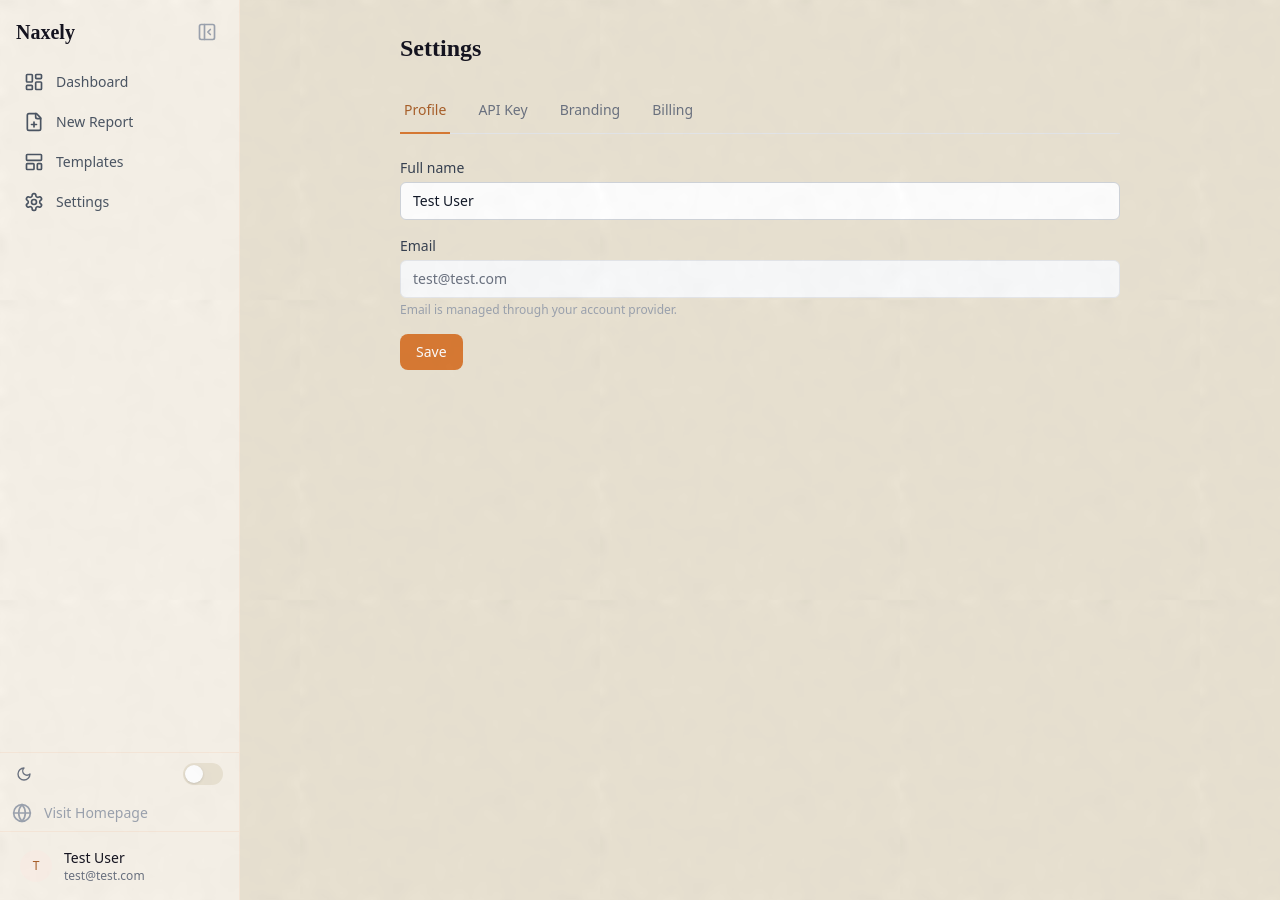
Test: Settings › branding validates hex colour on submit
Check: the link "Settings" is shown, box [24,192,109,212]
Click the button "Branding".
click(590, 111)  # box [556,88,624,134]
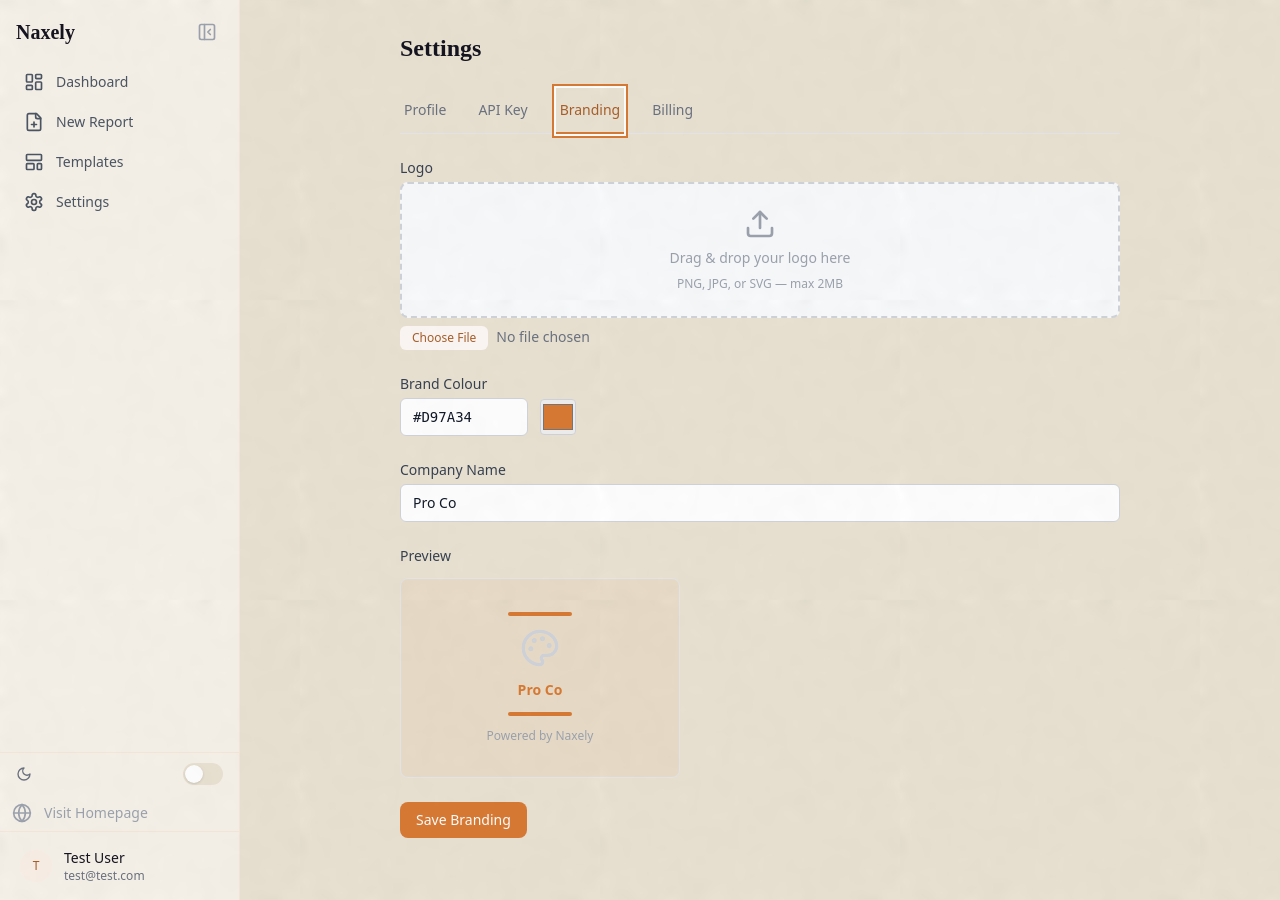
Check: the text "Brand Colour" is shown, box [400,374,487,393]
Replace the text in the field showing "#D97A34" with "red" at (464, 417), box [400,398,528,436]
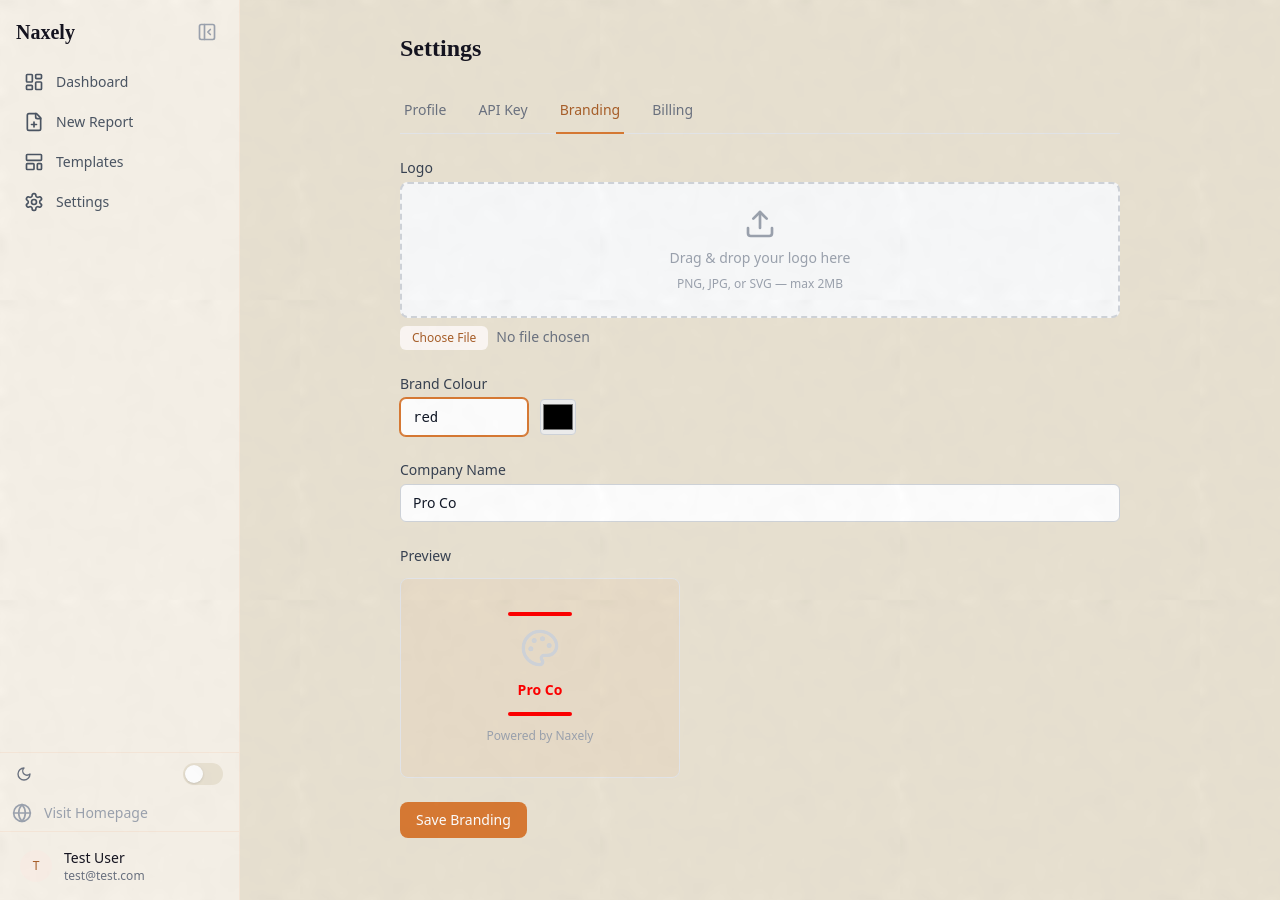
Click the button "Save Branding".
click(463, 820)  # box [400,802,527,838]
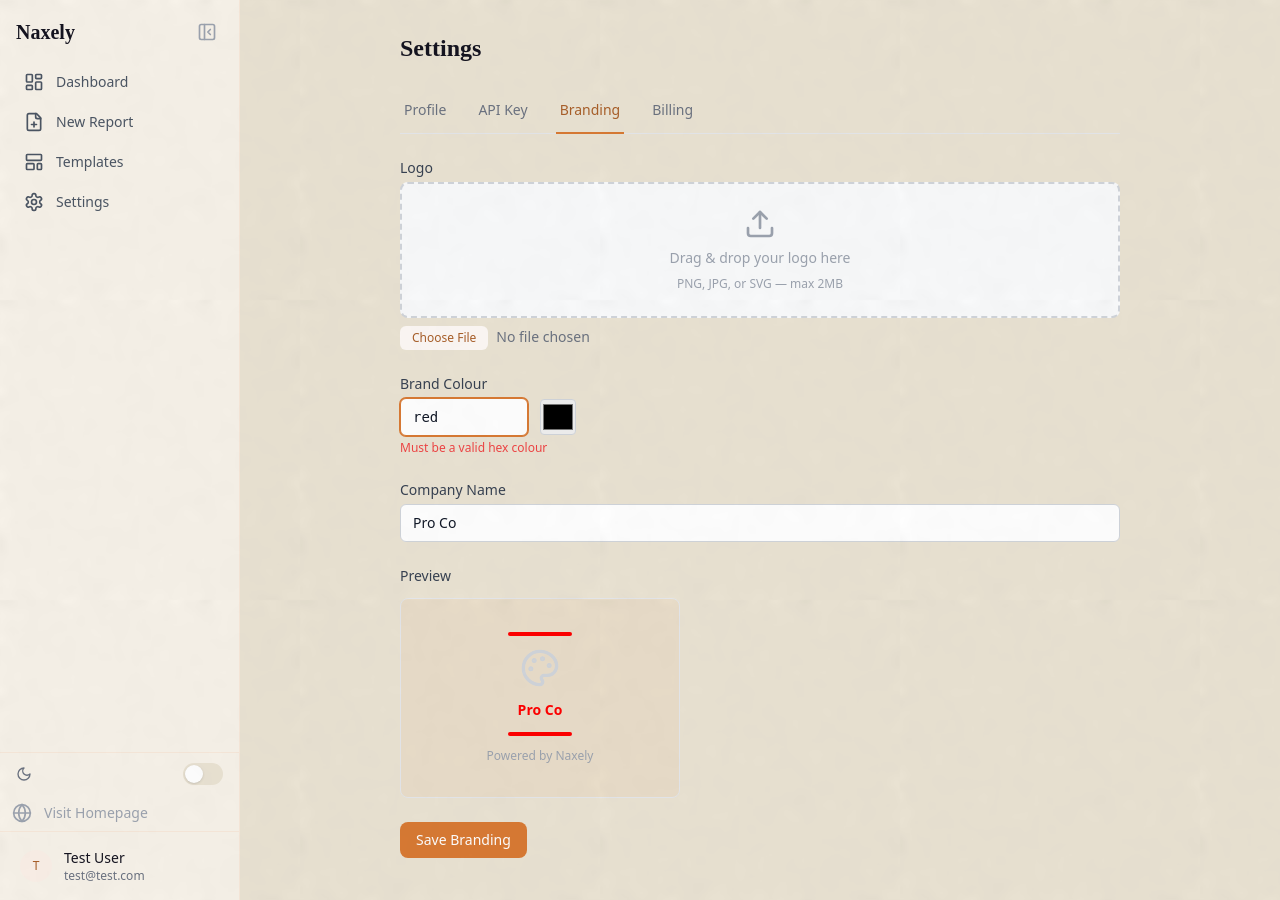
Check: the text "Must be a valid hex colour" is shown, box [400,439,547,456]
